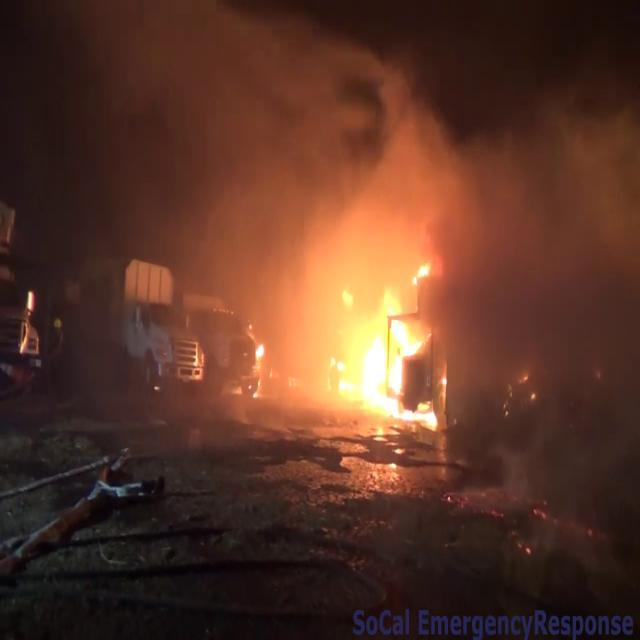Fire: (330, 276, 440, 424)
Smoke: (81, 12, 428, 329), (385, 67, 640, 434)
